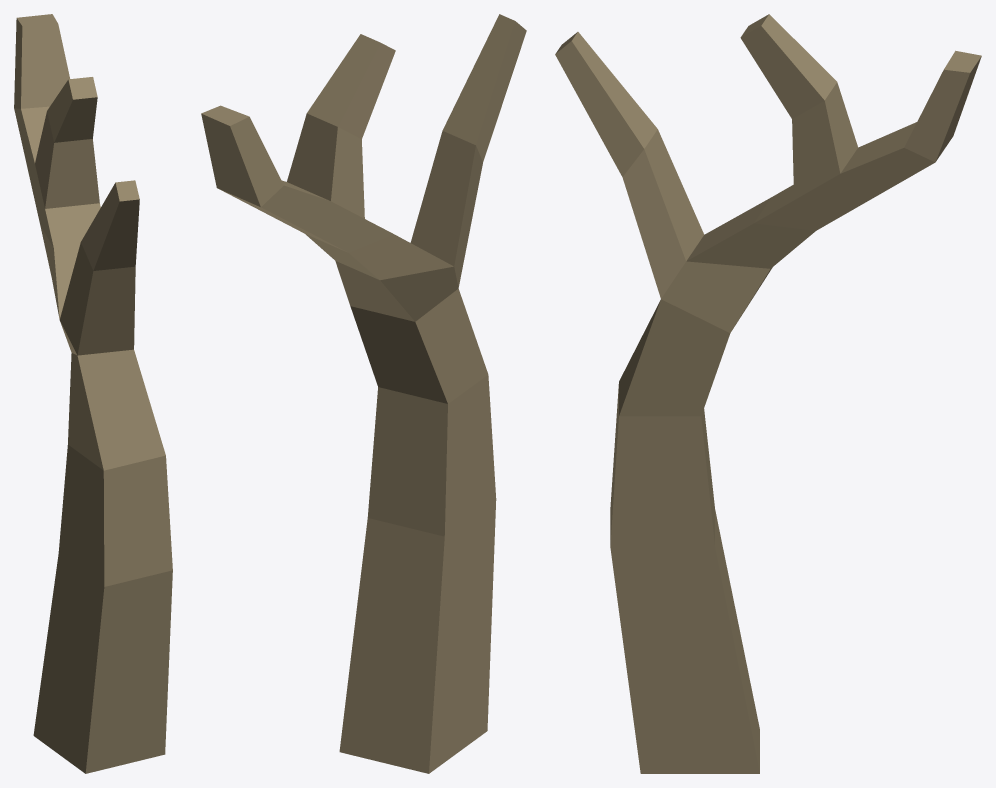
The model's file is tree_big_6.fbx.
3 views of the same model, side by side, from view 1: azimuth 30°, elevation 25°; view 2: azimuth 150°, elevation 25°; view 3: azimuth 270°, elevation 25° (orthographic). The views are drawn at different scales.
Parts seen in each view (by area): view 1: tree_big_6; view 2: tree_big_6; view 3: tree_big_6.
Boxes of the visible parts, <box> form: tree_big_6: <box>14,14,172,773</box>; tree_big_6: <box>201,14,526,773</box>; tree_big_6: <box>555,14,981,773</box>.
Bounding box in the file's own units: 53.48 × 293 × 154.
